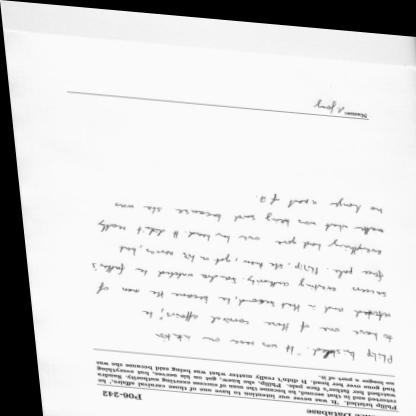Handwritten text: (68, 277, 390, 320), (88, 214, 381, 257), (83, 257, 384, 298), (109, 239, 378, 278), (138, 324, 392, 365), (104, 195, 384, 232), (123, 301, 390, 339), (244, 180, 380, 213)
